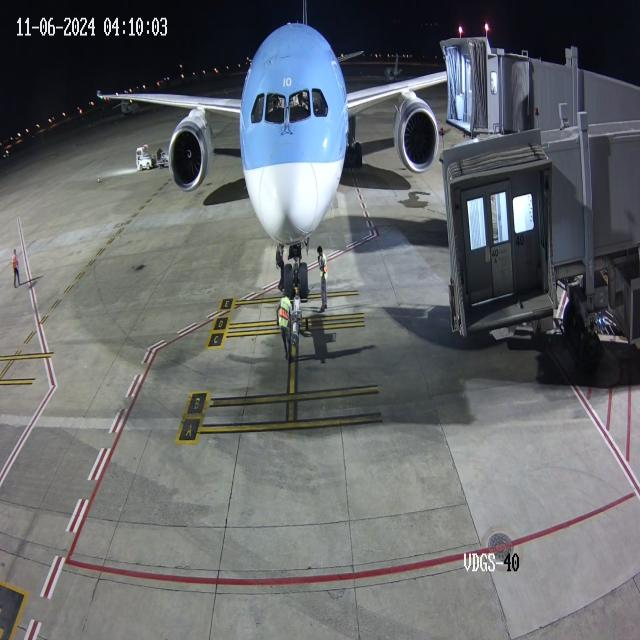bridge: (472, 26, 536, 141)
plane: (87, 4, 434, 304)
window: (248, 80, 335, 136)
